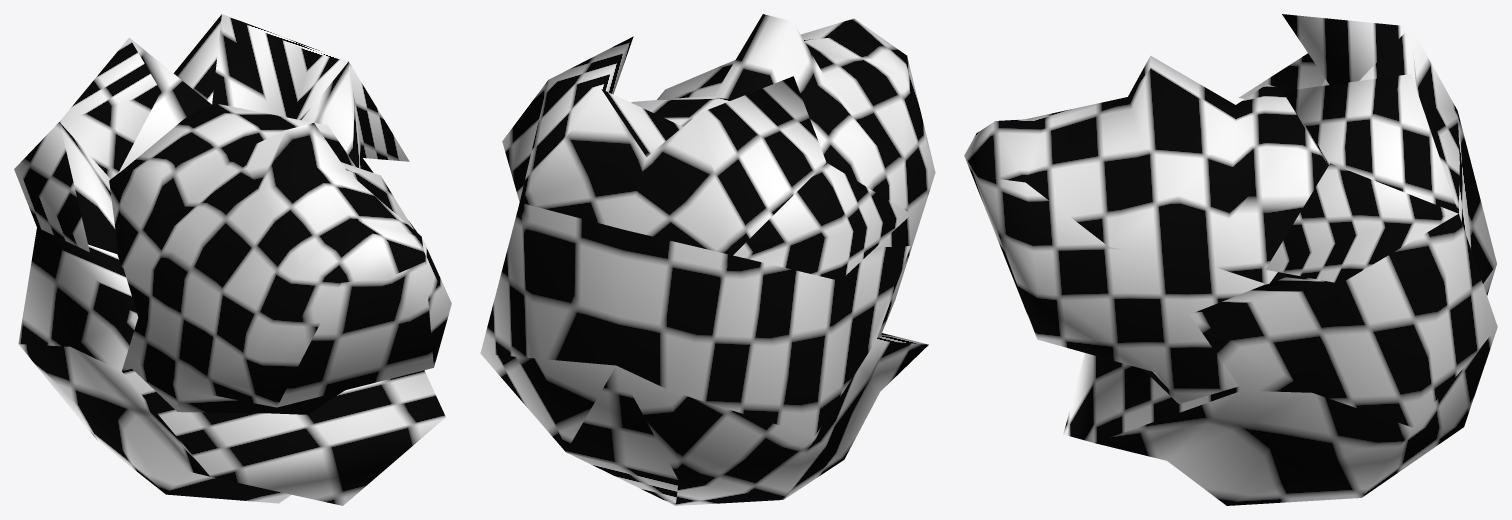
Rendered from infaunhuma0.dae.
3 views of the same model, side by side, from view 1: azimuth 30°, elevation 25°; view 2: azimuth 150°, elevation 25°; view 3: azimuth 270°, elevation 25° (orthographic). The views are drawn at different scales.
Parts seen in each view (by area): view 1: face; view 2: face; view 3: face.
Boxes of the visible parts, x1,y1,x2,y2 form: face: [14, 14, 451, 505]; face: [480, 14, 935, 505]; face: [964, 14, 1497, 505].
Bounding box in the file's own units: 1.17 × 1.51 × 1.34.
Materials: 1 (1 with a texture image).
